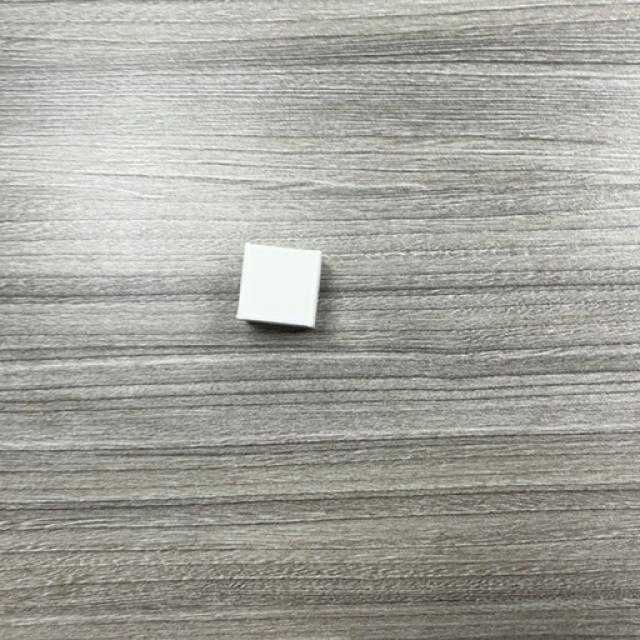Blanco: (235, 244, 321, 332)
